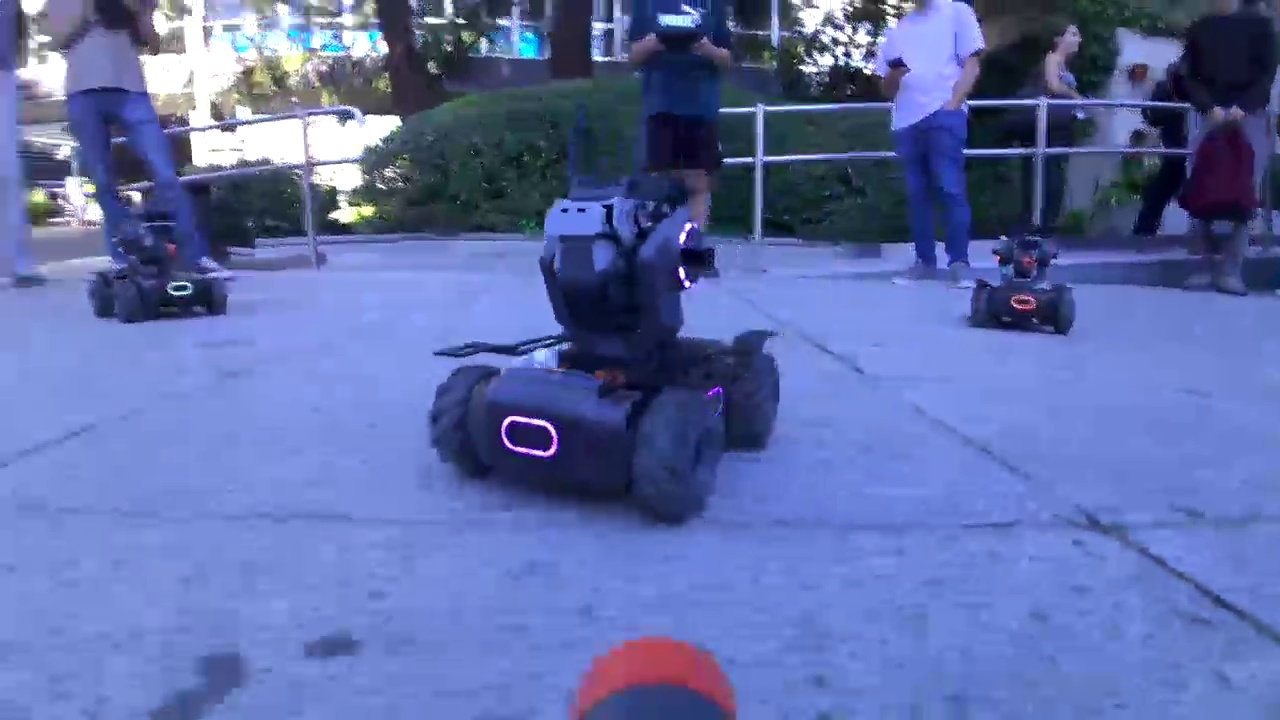robot: (399, 185, 828, 521), (953, 224, 1088, 343), (92, 216, 240, 321)
